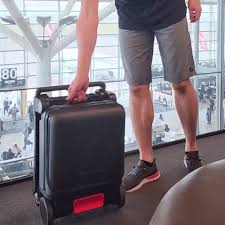suitcase: (29, 80, 127, 225)
